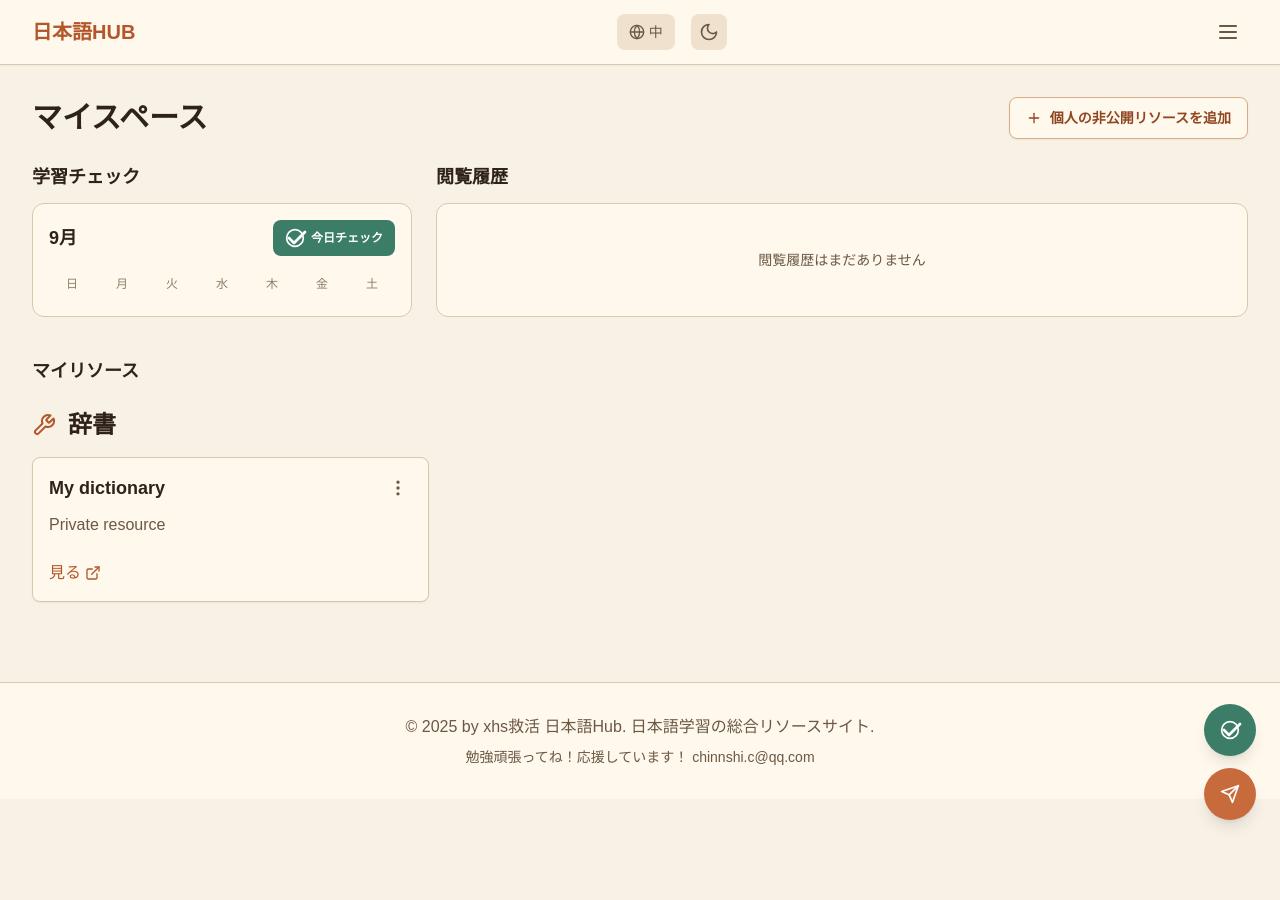
Scenario: App catalog states › connects private edit and delete dialogs from Space to the action hook
Click the button named "リソース操作" at (398, 488), box [384,474,412,502]
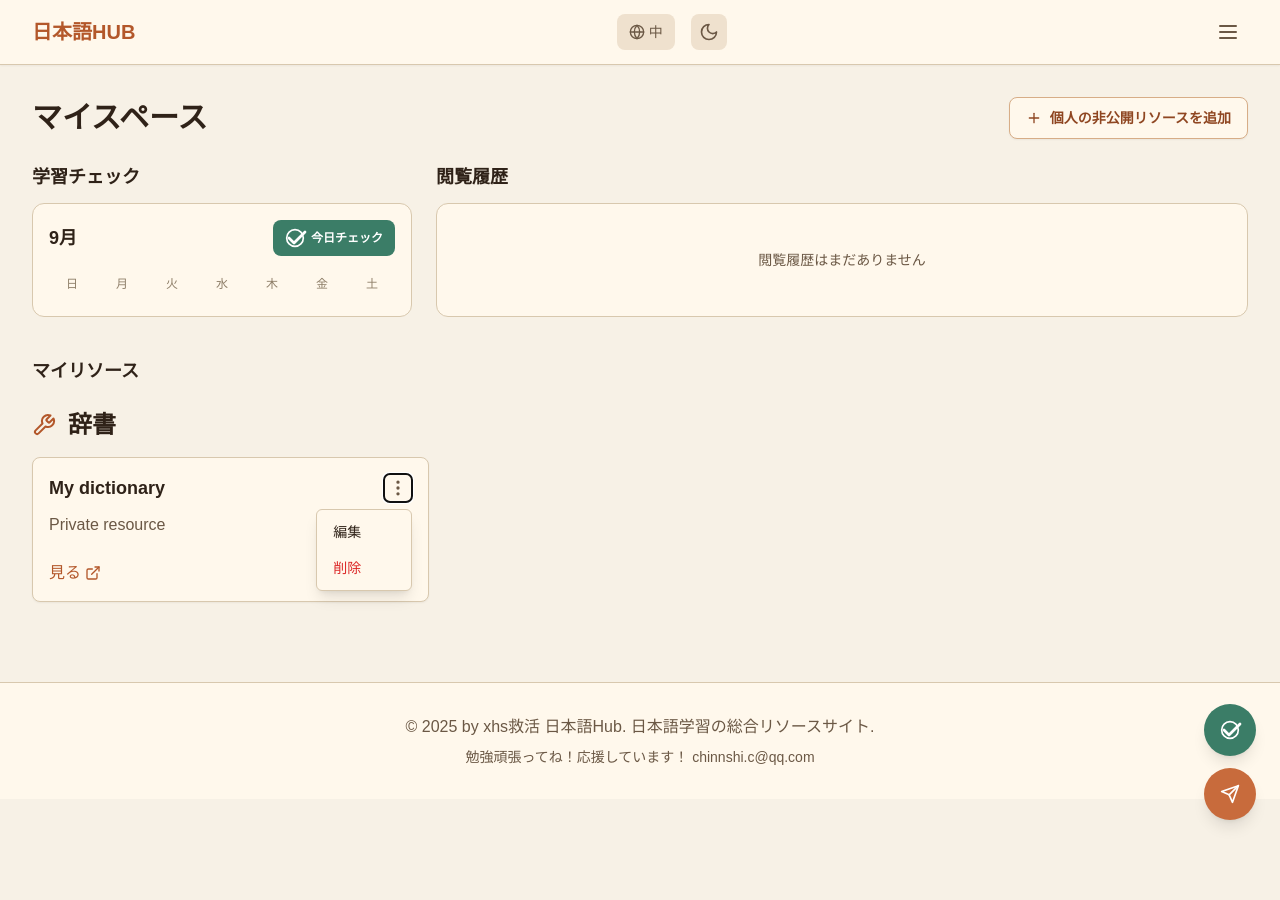
Click the button "編集" at (364, 532), box [321,514,407,550]
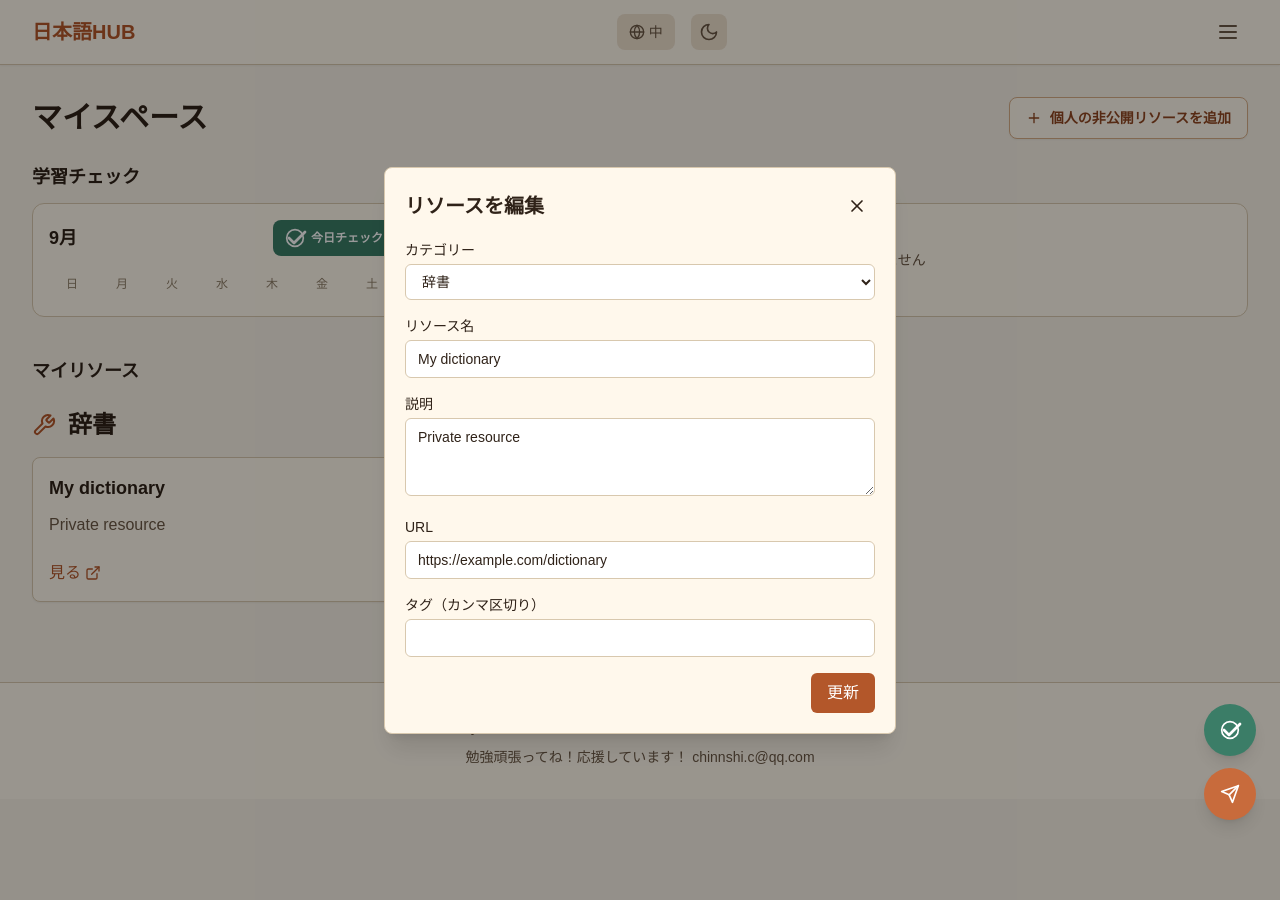
Result: the dialog "リソースを編集 カテゴリー リソース名 説明 URL タグ（カンマ区切り） 更新" is shown at [384,166,896,734]
